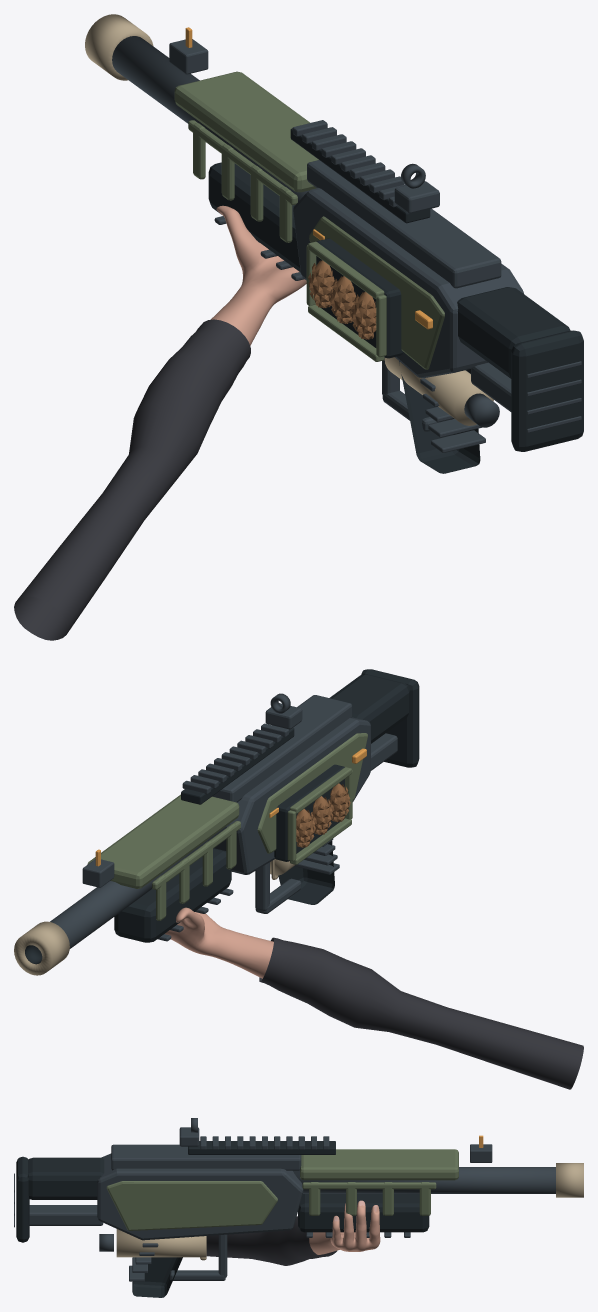
File: cedar_runtime.glb
The picture shows the model from 3 angles, top to bottom: view 1: azimuth 30°, elevation 25°; view 2: azimuth 150°, elevation 25°; view 3: azimuth 270°, elevation 25°; orthographic projection. The views are drawn at different scales.
Parts seen in each view (by area): view 1: CedarGunAssembly, HoodieSleeve, FemaleSupportHand; view 2: CedarGunAssembly, HoodieSleeve, FemaleSupportHand; view 3: CedarGunAssembly, HoodieSleeve, FemaleSupportHand.
Boxes of the visible parts, x1,y1,x2,y2 form: CedarGunAssembly: (85,14,583,473); HoodieSleeve: (14,319,250,640); FemaleSupportHand: (211,205,306,345); CedarGunAssembly: (14,669,419,975); HoodieSleeve: (259,937,583,1089); FemaleSupportHand: (165,907,273,978); CedarGunAssembly: (14,1118,583,1297); HoodieSleeve: (206,1216,336,1265); FemaleSupportHand: (309,1200,380,1254).
Size of the model in its own units: 0.562 by 0.4923 by 1.02.
1 material, 1 textured.
